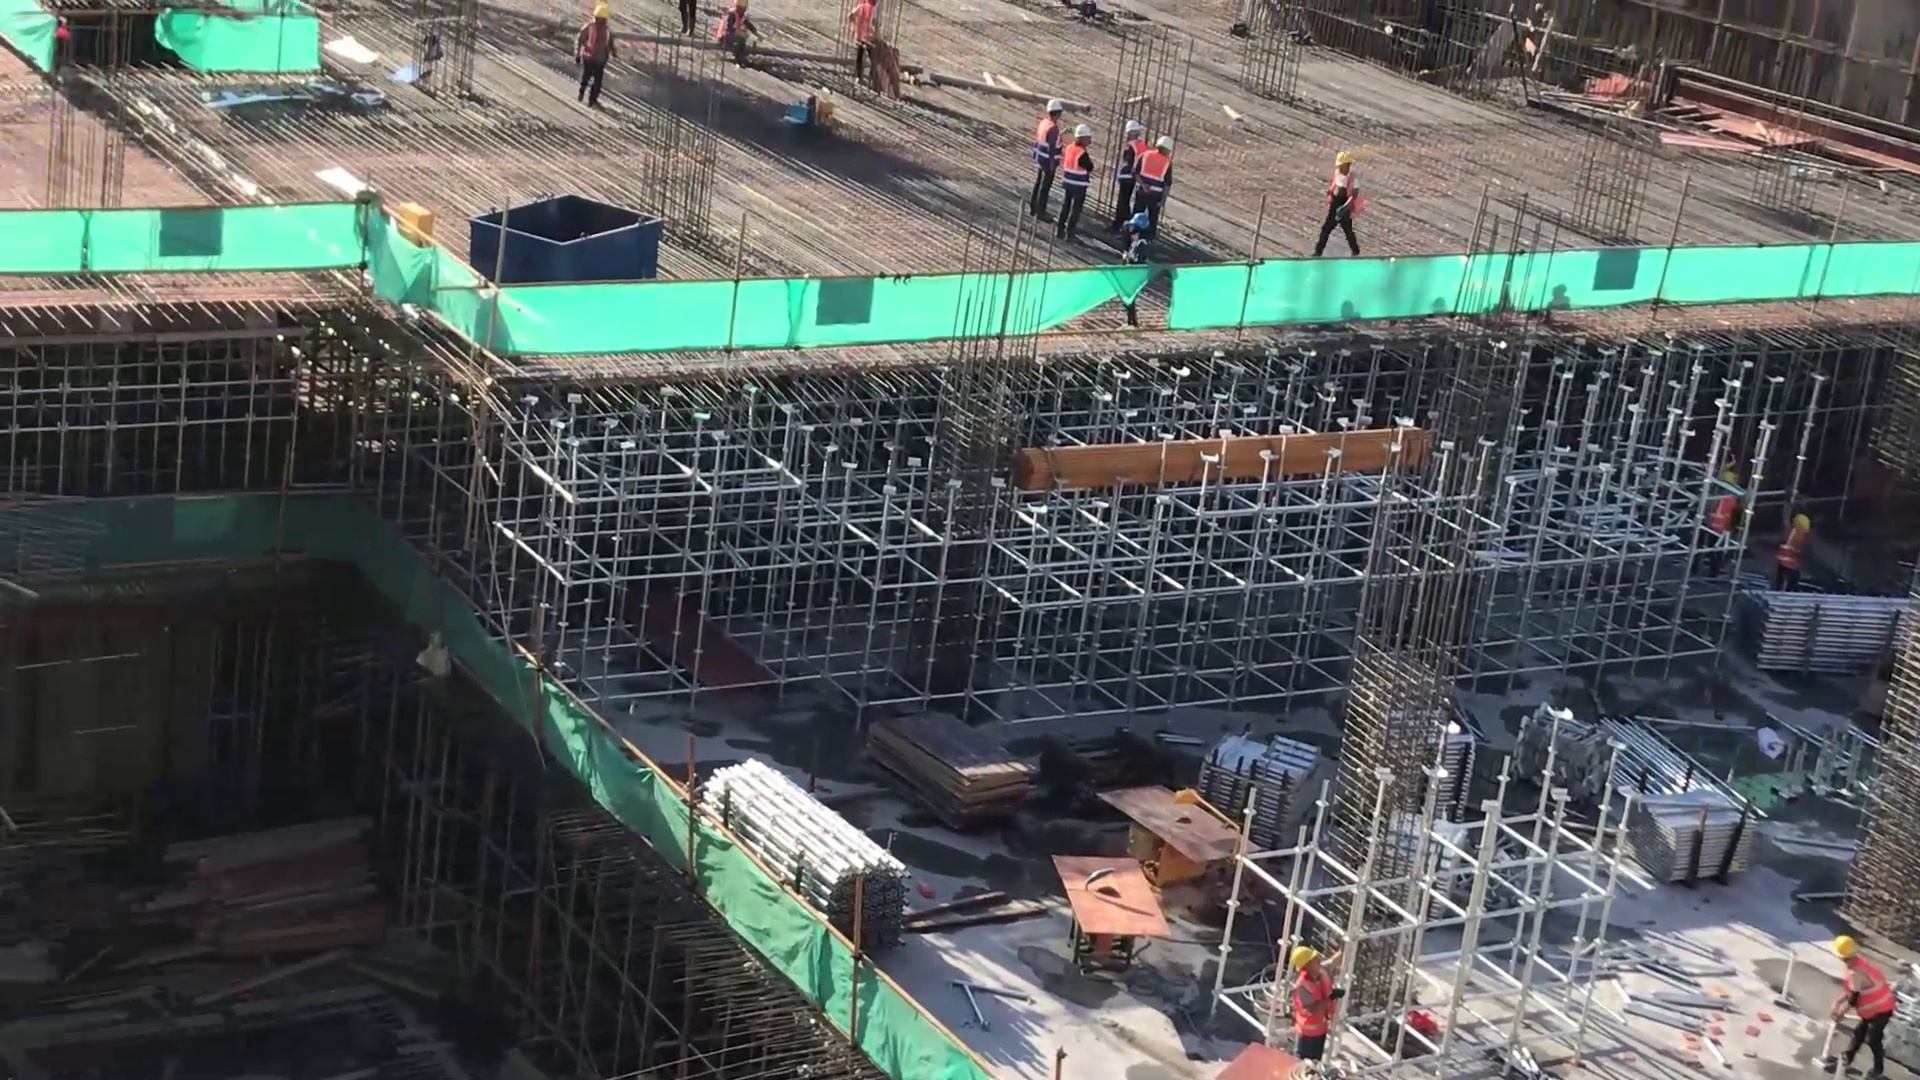helmet: (1042, 87, 1175, 158), (1328, 147, 1366, 172), (1288, 946, 1324, 969), (1839, 934, 1863, 953)
person: (1831, 931, 1896, 1076), (1282, 943, 1342, 1061), (1311, 149, 1364, 264), (1024, 95, 1067, 230), (571, 7, 621, 110), (1130, 134, 1176, 237), (834, 6, 888, 77), (1112, 110, 1141, 232), (1779, 504, 1813, 605), (1064, 125, 1090, 238), (714, 5, 755, 70)
vest: (1291, 972, 1332, 1047), (1845, 963, 1892, 1026), (1125, 144, 1164, 191), (1060, 146, 1094, 190)
